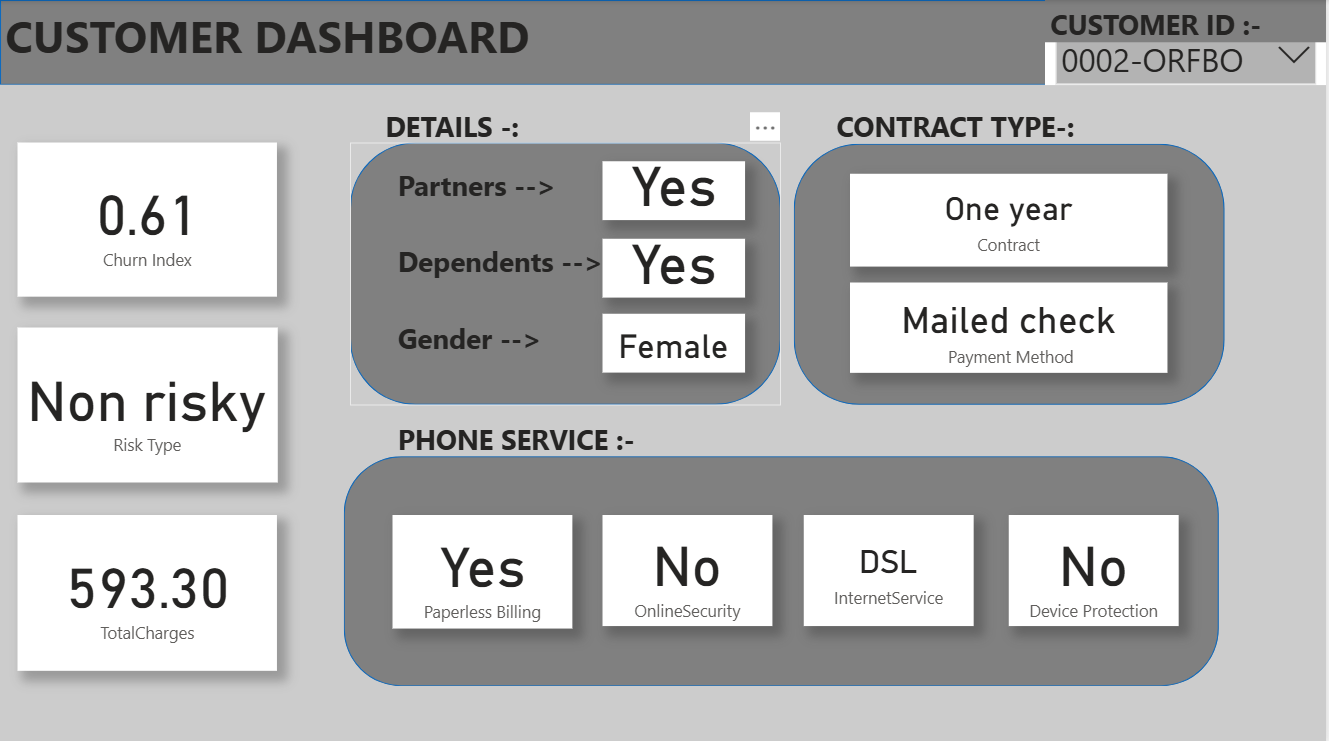

The page's visual inventory and layout, read from the dashboard file:
{"tool":"powerbi","page":{"name":"customer detail","canvas":[1280,720],"ordinal":1},"visuals":[{"type":"shape","box":[0,0,1280.3,81.9],"z":0},{"type":"slicer","fields":{"Values":["data_prediction.customerID"]},"box":[1008.6,20.5,271.4,61.5],"z":1000},{"type":"card","fields":{"Values":["Sum(data_prediction.TotalCharges)"]},"box":[17.4,496.5,250.7,150.2],"z":2000},{"type":"card","fields":{"Values":["Min(data_prediction.Risk)"]},"box":[16.9,316.1,250.9,149.6],"z":3000},{"type":"card","fields":{"Values":["Sum(data_prediction.Prediction)"]},"box":[17.4,137.8,250.7,149],"z":4000},{"type":"shape","box":[337.6,137.8,415.8,253.2],"z":5000},{"type":"shape","box":[765.9,139,415.8,252],"z":6000},{"type":"shape","box":[331.8,440.4,844.5,222],"z":7000},{"type":"card","fields":{"Values":["Min(data_prediction.Partner)"]},"box":[581.5,155.6,137.5,56.7],"z":8000},{"type":"card","fields":{"Values":["Min(data_prediction.Dependents)"]},"box":[581.5,230.4,137.5,56.7],"z":9000},{"type":"card","fields":{"Values":["Min(data_prediction.Contract)"]},"box":[820.4,167.7,306.4,89.3],"z":10000},{"type":"card","fields":{"Values":["Min(data_prediction.PaymentMethod)"]},"box":[820.4,272.7,306.4,86.9],"z":11000},{"type":"textbox","box":[378.6,155.2,225.9,57.1],"z":12000},{"type":"textbox","box":[378.6,229.6,225.9,57.1],"z":13000},{"type":"textbox","box":[378.6,302.9,225.9,57.1],"z":14000},{"type":"card","fields":{"Values":["Min(data_prediction.gender)"]},"box":[580.9,302.9,137.8,57.1],"z":15000},{"type":"textbox","box":[0,0,682.8,82],"z":16000},{"type":"card","fields":{"Values":["Min(data_prediction.OnlineSecurity)"]},"box":[581.5,497.1,164.1,107.4],"z":17000},{"type":"card","fields":{"Values":["Min(data_prediction.PaperlessBilling)"]},"box":[378.8,497.1,173.7,109.8],"z":18000},{"type":"card","fields":{"Values":["Min(data_prediction.InternetService)"]},"box":[775.7,497.1,164.1,107.4],"z":19000},{"type":"card","fields":{"Values":["Min(data_prediction.DeviceProtection)"]},"box":[973.6,497.1,164.1,107.4],"z":20000},{"type":"textbox","box":[378.8,400.5,253.4,56.7],"z":21000},{"type":"textbox","box":[366.8,98.9,225.6,56.7],"z":22000},{"type":"textbox","box":[802.3,98.9,273.9,56.7],"z":23000},{"type":"shape","box":[1008.6,0,271.4,41],"z":24000},{"type":"textbox","box":[1008.6,0,225.6,56.7],"z":24001}]}

Visuals, with their boxes in screenshot pixels (x1, y1, x2, y2), scaled from the page's 1280x720 canvas onto the 1329x741 screenshot:
shape: box(0, 0, 1328, 84)
slicer - data_prediction.customerID: box(1047, 21, 1328, 84)
card - Sum(data_prediction.TotalCharges): box(18, 511, 278, 666)
card - Min(data_prediction.Risk): box(18, 325, 278, 479)
card - Sum(data_prediction.Prediction): box(18, 142, 278, 295)
shape: box(351, 142, 782, 402)
shape: box(795, 143, 1227, 402)
shape: box(345, 453, 1221, 682)
card - Min(data_prediction.Partner): box(604, 160, 747, 218)
card - Min(data_prediction.Dependents): box(604, 237, 747, 295)
card - Min(data_prediction.Contract): box(852, 173, 1170, 264)
card - Min(data_prediction.PaymentMethod): box(852, 281, 1170, 370)
textbox: box(393, 160, 628, 218)
textbox: box(393, 236, 628, 295)
textbox: box(393, 312, 628, 370)
card - Min(data_prediction.gender): box(603, 312, 746, 370)
textbox: box(0, 0, 709, 84)
card - Min(data_prediction.OnlineSecurity): box(604, 512, 774, 622)
card - Min(data_prediction.PaperlessBilling): box(393, 512, 574, 625)
card - Min(data_prediction.InternetService): box(805, 512, 976, 622)
card - Min(data_prediction.DeviceProtection): box(1011, 512, 1181, 622)
textbox: box(393, 412, 656, 471)
textbox: box(381, 102, 615, 160)
textbox: box(833, 102, 1117, 160)
shape: box(1047, 0, 1328, 42)
textbox: box(1047, 0, 1281, 58)
